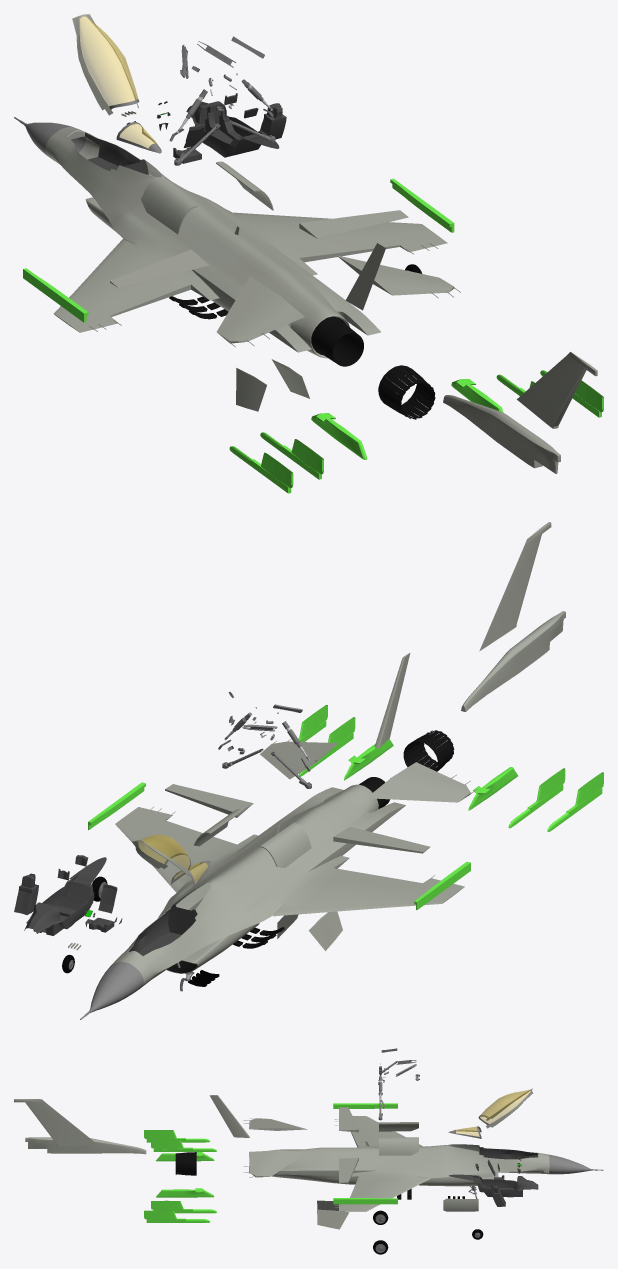
Rendered from F-16 Exploded.fbx.
The picture shows the model from 3 angles, top to bottom: view 1: azimuth 30°, elevation 25°; view 2: azimuth 150°, elevation 25°; view 3: azimuth 270°, elevation 25°; orthographic projection. The views are drawn at different scales.
Visible parts, largest first — view 1: F-16, Cockpit Door, Rear Wings, Rear_tail, rear_tail_wing, Cockpit, Rear Wings.001, Missle_Holder_1, F-16 Under Wheels Flaps.001, Wing Missle Holder, Missle_Holder_3, under_wings (+6 smaller); view 2: F-16, Cockpit, Rear_tail, Rear Wings, rear_tail_wing, Rear Wings.001, Missle_Holder_2, Missle_Holder_1, Cockpit Door, Missle_Holder_3, F-16 Under Wheels Flaps.001, Wing Missle Holder (+5 smaller); view 3: F-16, rear_tail_wing, Rear_tail, Rear Wings.001, Missle_Holder_2, Missle_Holder_1, Cockpit, Cockpit Door, Wing Missle Holder, Missle_Holder_3, F-16 Under Wheels Flaps.002, under_wings (+7 smaller).
Part boxes in pixels (box(x1,y1,x2,y2)): F-16: box(14, 117, 447, 366); Cockpit Door: box(72, 14, 139, 115); Rear Wings: box(216, 276, 304, 343); Rear_tail: box(443, 395, 560, 473); rear_tail_wing: box(517, 352, 597, 428); Cockpit: box(186, 101, 279, 157); Rear Wings.001: box(336, 255, 453, 295); Missle_Holder_1: box(229, 370, 603, 493); F-16 Under Wheels Flaps.001: box(141, 177, 197, 234); Wing Missle Holder: box(23, 178, 454, 322); Missle_Holder_3: box(311, 379, 503, 459); under_wings: box(236, 359, 309, 411); F-16: box(80, 777, 464, 1019); Cockpit: box(24, 857, 106, 935); Rear_tail: box(461, 611, 565, 711); Rear Wings: box(366, 762, 470, 802); rear_tail_wing: box(479, 522, 551, 651); Rear Wings.001: box(260, 741, 337, 779); Missle_Holder_2: box(299, 717, 565, 828); Missle_Holder_1: box(298, 705, 603, 831); Cockpit Door: box(131, 835, 190, 875); Missle_Holder_3: box(344, 739, 517, 810); F-16 Under Wheels Flaps.001: box(260, 822, 311, 867); Wing Missle Holder: box(88, 782, 470, 909); F-16: box(249, 1116, 603, 1211); rear_tail_wing: box(14, 1099, 98, 1146); Rear_tail: box(25, 1137, 146, 1154); Rear Wings.001: box(249, 1150, 307, 1177); Missle_Holder_2: box(151, 1139, 216, 1213); Missle_Holder_1: box(144, 1130, 210, 1222); Cockpit: box(449, 1174, 538, 1197); Cockpit Door: box(478, 1088, 532, 1128); Wing Missle Holder: box(333, 1103, 397, 1204); Missle_Holder_3: box(156, 1152, 214, 1197); F-16 Under Wheels Flaps.002: box(378, 1137, 418, 1155); under_wings: box(317, 1200, 349, 1229).
Size of the model in its own units: 4848 by 3863 by 12301.
